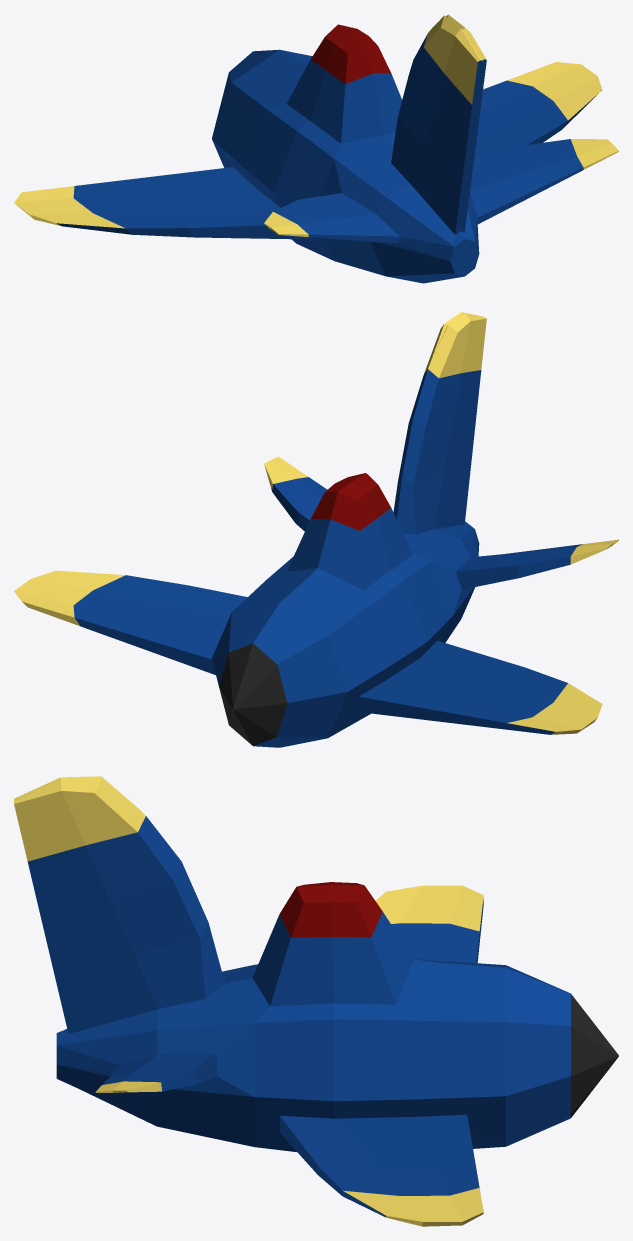
Rendered from plane_color.gltf.
The picture shows the model from 3 angles, top to bottom: view 1: azimuth 30°, elevation 25°; view 2: azimuth 150°, elevation 25°; view 3: azimuth 270°, elevation 25°; orthographic projection. The views are drawn at different scales.
Visible parts, largest first — view 1: Cylinder; view 2: Cylinder; view 3: Cylinder.
Part boxes in pixels (x1,y1,x2,y2): Cylinder: (14, 14, 618, 283); Cylinder: (14, 312, 618, 747); Cylinder: (14, 776, 618, 1226).
Bounding box in the file's own units: 7.58 × 3.95 × 5.76.
